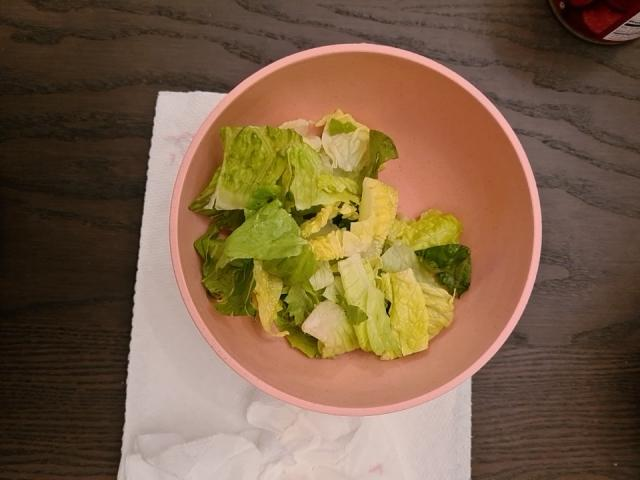kichen waste: (189, 111, 471, 360)
